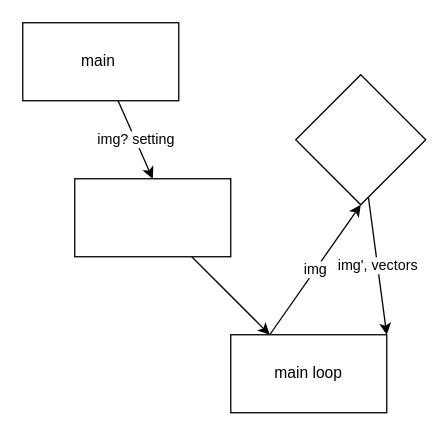
Some shapes in this 448 by 435 pixel diagram are drawn without their labels. The shapes that lost their labels are listed below. From the top down, each one's box as (x1, y1, x2, y2) in pixels, then its label:
(294, 73, 426, 205): aruco detect, calculate
(73, 177, 231, 257): aruco main thread
